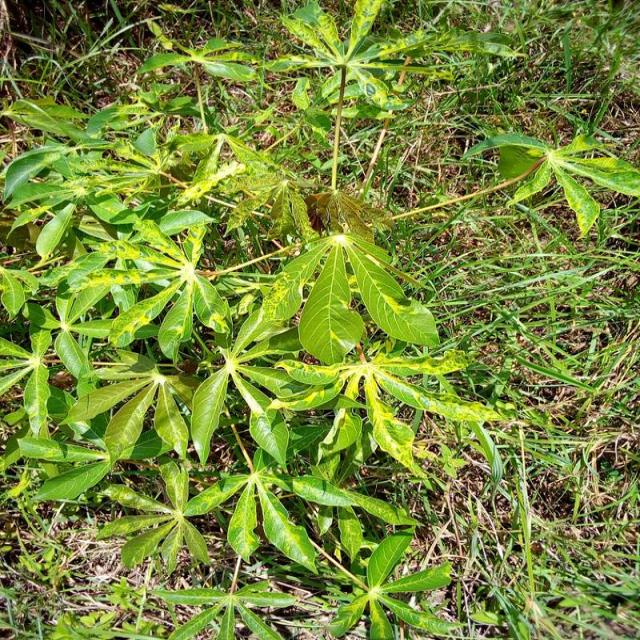cassava leaf: (297, 240, 365, 365)
